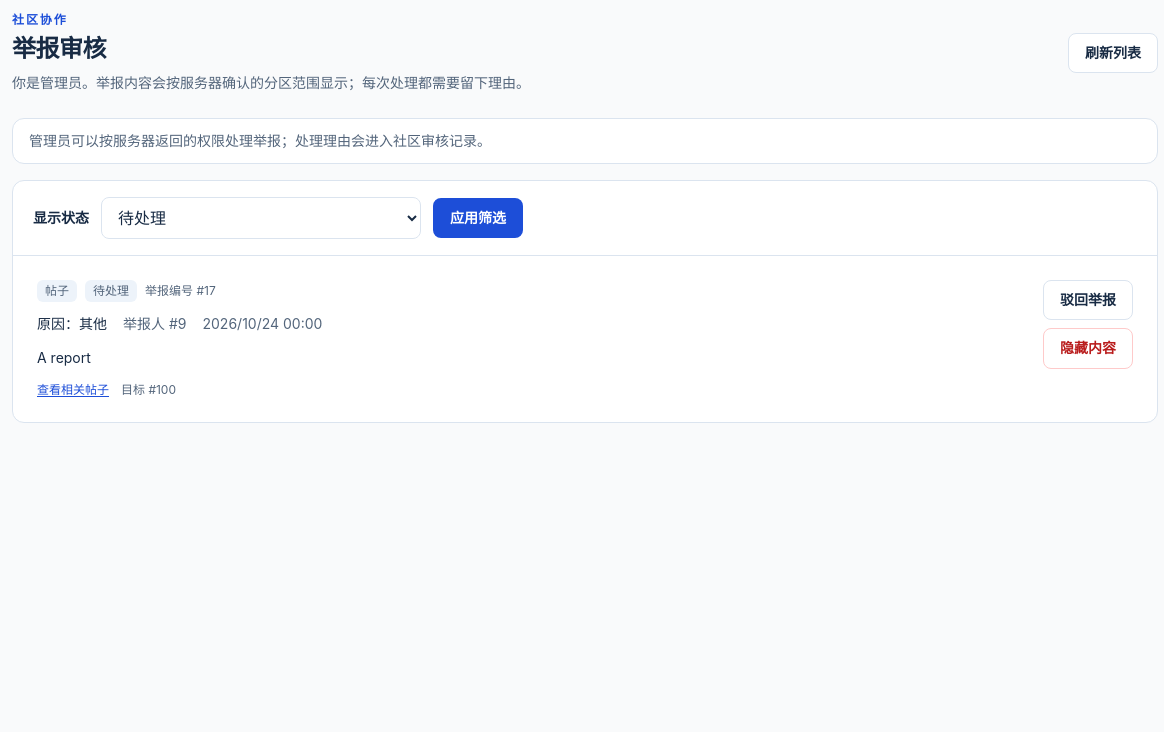
Test case: AdminReports follow-up ownership › does not read a new list after resolution is superseded by storage-drift
Click the button "驳回举报" at {"x": 1088, "y": 300}, box top-left (1043, 280), bottom-right (1133, 320)
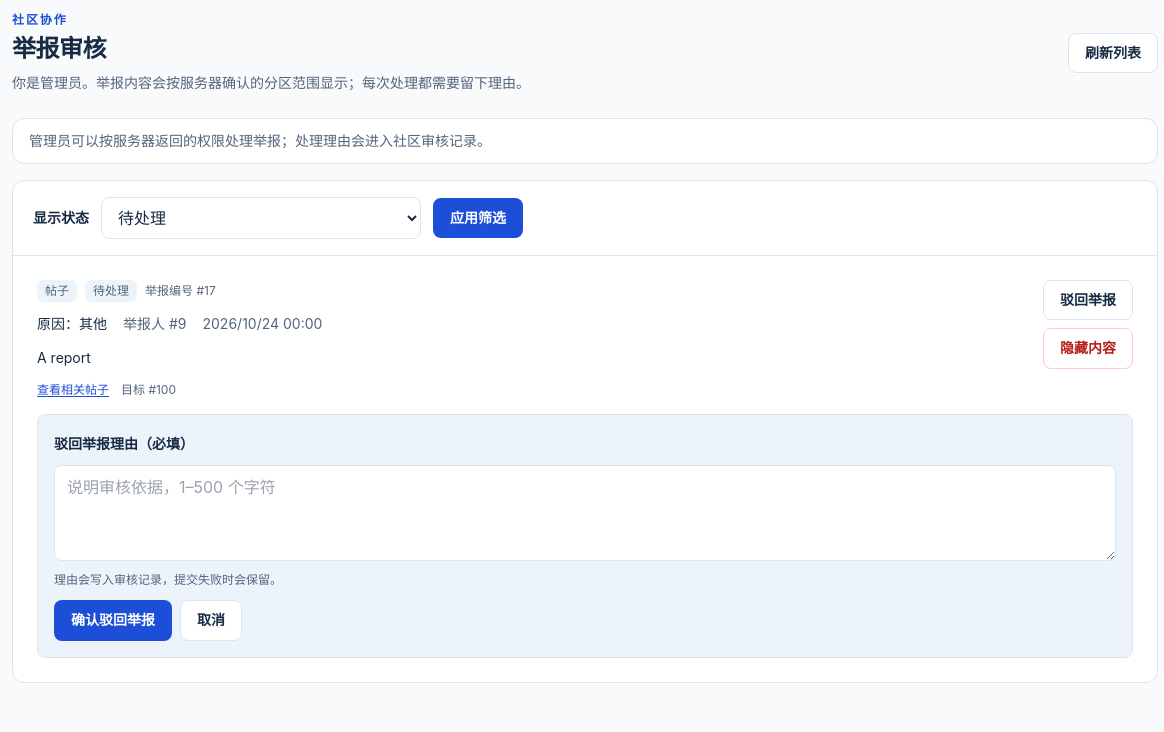
Type "valid reason" into the text box at {"x": 585, "y": 513}, box top-left (54, 465), bottom-right (1116, 561)
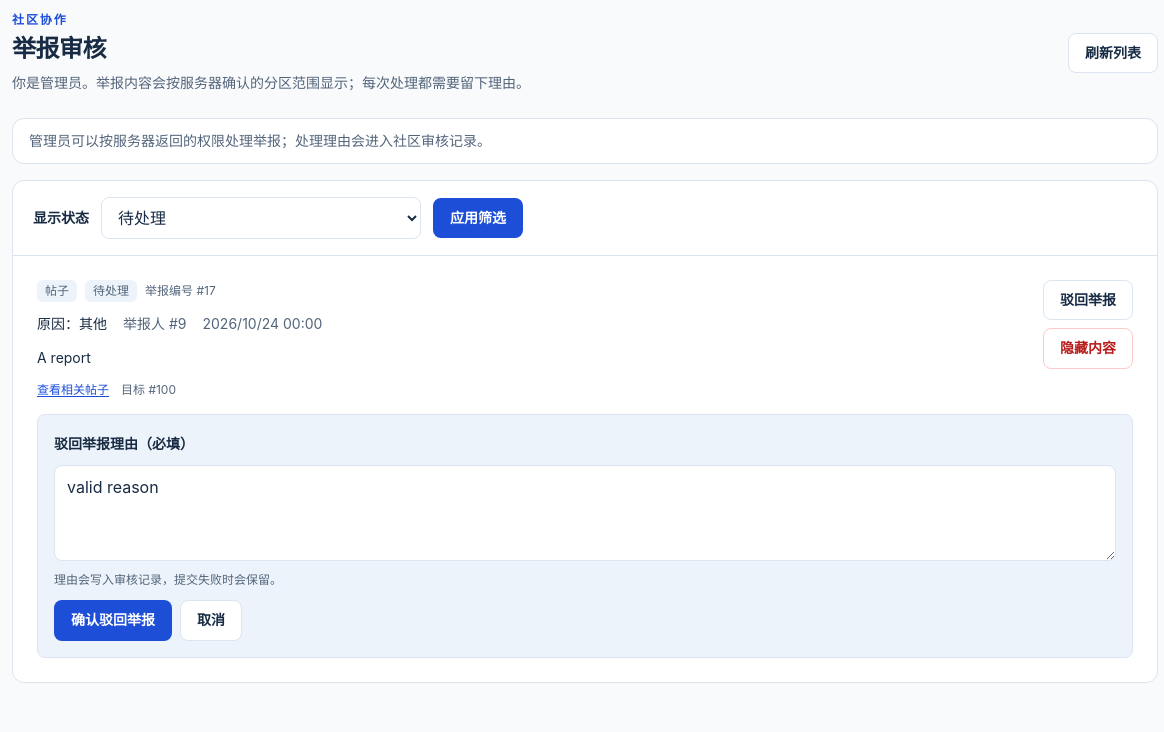
Submit the 2nd form, box top-left (37, 414), bottom-right (1133, 658)
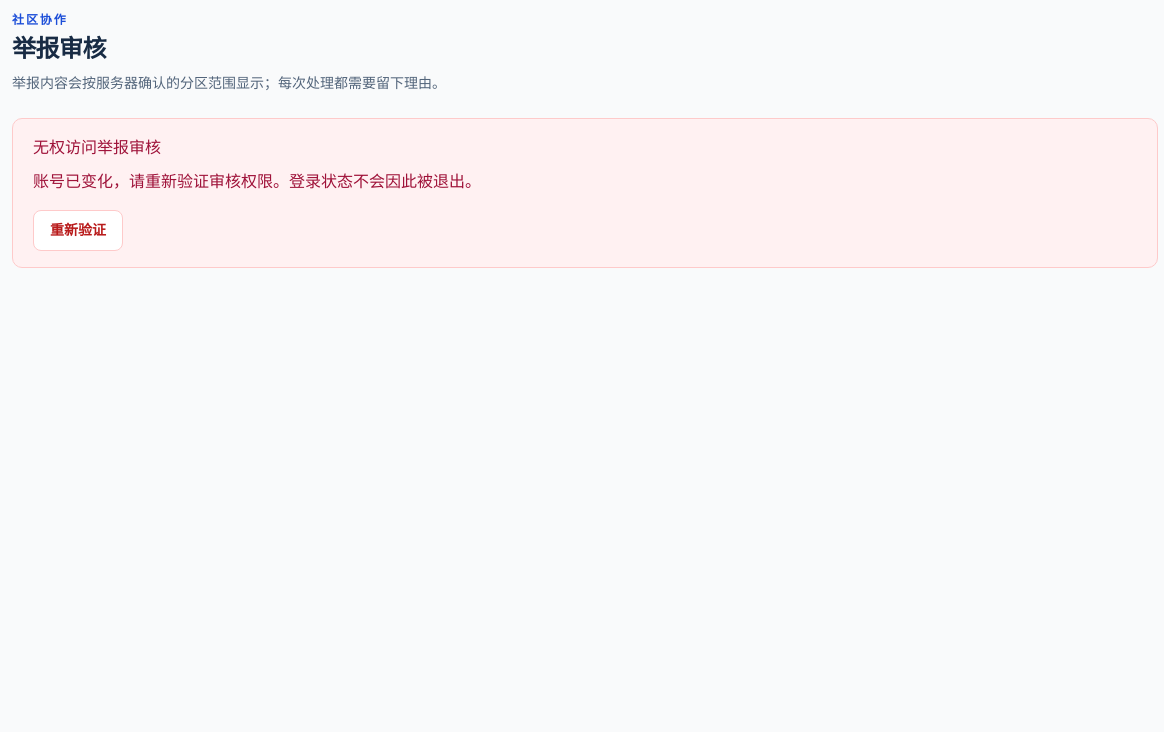
Check: the text "A report" is gone
Check: the text "账号已变化" is shown, box top-left (33, 171), bottom-right (481, 191)
